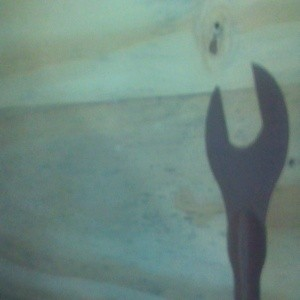spanner: (203, 61, 290, 300)
